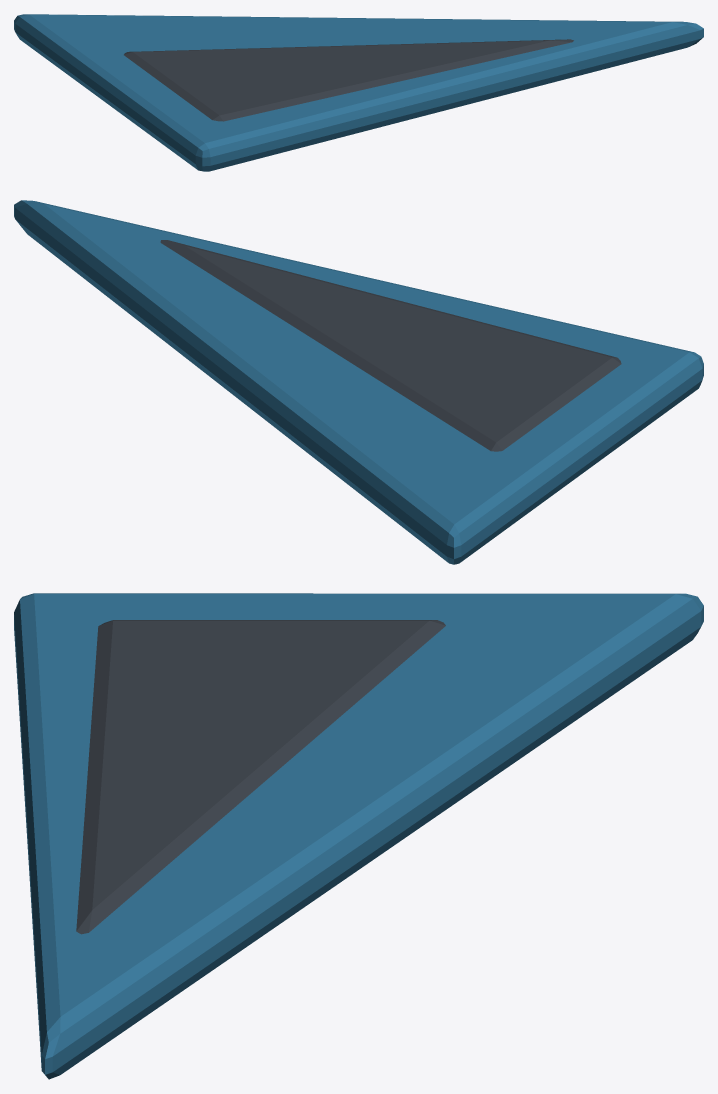
The model's file is DeltaWing.fbx.
3 views of the same model, one above another, from view 1: azimuth 30°, elevation 25°; view 2: azimuth 150°, elevation 25°; view 3: azimuth 270°, elevation 25° (orthographic). The views are drawn at different scales.
Visible parts, largest first — view 1: DeltaWing_RENDER, DeltaWingStructure_RENDER; view 2: DeltaWing_RENDER, DeltaWingStructure_RENDER; view 3: DeltaWing_RENDER, DeltaWingStructure_RENDER.
Boxes of the visible parts, <box> form: DeltaWing_RENDER: <box>14,14,703,171</box>; DeltaWingStructure_RENDER: <box>124,39,573,121</box>; DeltaWing_RENDER: <box>14,200,703,564</box>; DeltaWingStructure_RENDER: <box>160,240,621,451</box>; DeltaWing_RENDER: <box>14,593,703,1079</box>; DeltaWingStructure_RENDER: <box>76,620,445,934</box>.
Bounding box in the file's own units: 2.62 × 0.155 × 1.68.
